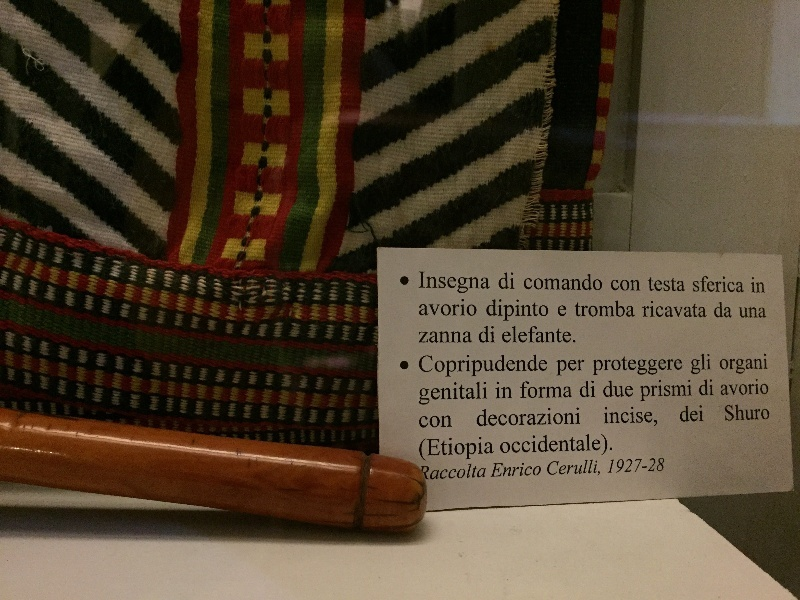text: (433, 436, 448, 462), (449, 436, 464, 462), (465, 436, 480, 462), (433, 381, 448, 406), (449, 381, 464, 406), (465, 381, 480, 406), (481, 436, 495, 462), (433, 354, 448, 378), (449, 354, 464, 378), (465, 354, 480, 378), (481, 354, 496, 378), (497, 354, 512, 378), (513, 354, 528, 378), (529, 354, 544, 378), (721, 353, 736, 377), (737, 353, 752, 377), (753, 353, 768, 377), (641, 379, 656, 403), (657, 379, 672, 403), (673, 379, 688, 403), (433, 271, 448, 294), (449, 271, 464, 294), (465, 271, 480, 294), (497, 299, 512, 322), (513, 299, 528, 322), (529, 299, 544, 322), (513, 433, 528, 456), (529, 433, 544, 456), (545, 433, 560, 456), (561, 433, 576, 456), (577, 433, 592, 456), (593, 433, 608, 456), (691, 350, 704, 376), (419, 436, 432, 462), (497, 380, 513, 399), (593, 357, 608, 377), (609, 357, 624, 377), (625, 357, 640, 377), (641, 357, 656, 377), (657, 357, 672, 377), (481, 407, 496, 427), (497, 407, 512, 427), (513, 407, 528, 427), (529, 407, 544, 427), (545, 407, 560, 427), (561, 407, 576, 427), (609, 406, 624, 426), (625, 406, 640, 426), (641, 406, 656, 426), (419, 271, 432, 294), (465, 298, 481, 316), (420, 354, 432, 378), (753, 378, 769, 396), (561, 359, 576, 378), (609, 379, 624, 398), (737, 403, 752, 422), (753, 403, 768, 422), (500, 433, 512, 456), (421, 381, 432, 406), (529, 273, 544, 291), (545, 273, 560, 291), (561, 273, 576, 291), (577, 273, 592, 291), (705, 275, 720, 293), (721, 275, 736, 293), (433, 298, 448, 316), (449, 298, 464, 316), (577, 300, 592, 318), (593, 300, 608, 318), (609, 300, 624, 318), (657, 300, 672, 318), (673, 300, 688, 318), (689, 300, 704, 318), (481, 326, 496, 344), (529, 381, 544, 399), (545, 381, 560, 399), (721, 378, 736, 396), (737, 378, 752, 396), (689, 405, 704, 423), (513, 326, 528, 343), (529, 326, 544, 343), (545, 326, 560, 343), (561, 326, 576, 343), (433, 463, 448, 480), (449, 463, 464, 480), (465, 463, 480, 480), (642, 300, 656, 318), (499, 271, 512, 290), (561, 460, 576, 476), (577, 460, 592, 476), (625, 458, 640, 474), (641, 458, 656, 474), (419, 298, 432, 316), (657, 277, 672, 292), (753, 276, 765, 294), (561, 381, 573, 399), (433, 415, 448, 429), (497, 463, 512, 477), (513, 463, 528, 477), (725, 403, 736, 422), (611, 458, 624, 474), (481, 271, 490, 294), (673, 357, 683, 377), (625, 300, 636, 318), (581, 380, 592, 398), (529, 463, 543, 477), (673, 277, 686, 292), (721, 302, 732, 319), (421, 463, 432, 480), (705, 350, 712, 376), (593, 273, 603, 291), (694, 275, 704, 293), (753, 307, 768, 319), (433, 331, 448, 343), (449, 331, 464, 343), (625, 280, 641, 291), (549, 460, 560, 476), (481, 381, 488, 406), (625, 379, 634, 398), (502, 326, 512, 343), (738, 307, 752, 319), (420, 415, 432, 429), (489, 299, 496, 322), (419, 331, 432, 343), (705, 379, 714, 396), (577, 359, 585, 378), (520, 381, 528, 399), (611, 280, 624, 291), (657, 458, 665, 474), (737, 275, 744, 293), (681, 405, 688, 423), (648, 277, 656, 292), (481, 463, 488, 480), (593, 460, 600, 476), (714, 302, 720, 319), (465, 331, 473, 343), (689, 379, 693, 403), (545, 299, 549, 322), (609, 433, 613, 456), (577, 407, 581, 427), (604, 406, 608, 426), (556, 359, 560, 378), (524, 273, 528, 291), (561, 305, 567, 317), (545, 354, 548, 378), (657, 406, 660, 426), (605, 379, 608, 398), (449, 415, 453, 429), (593, 380, 596, 398), (701, 379, 704, 396), (478, 407, 480, 427), (513, 271, 515, 290), (705, 300, 707, 318), (494, 463, 496, 477), (558, 305, 560, 317), (769, 403, 770, 422), (751, 276, 752, 294), (575, 300, 576, 318), (479, 326, 480, 344)
